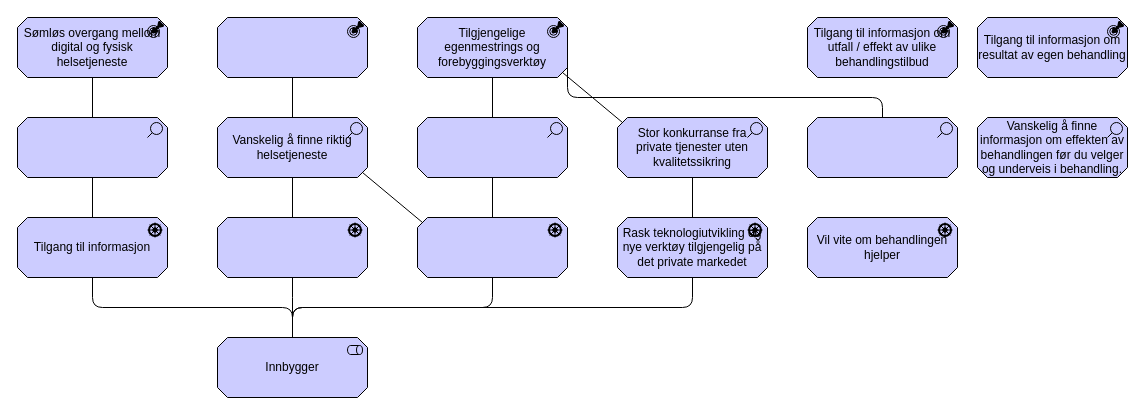
The diagram is 1145 pixels wide and 415 high, and some of its shapes have lost their labels. Each missing label, with the centre of its shape:
"Dårlig støtte til egenmestring" goes at (492,147).
"Helsetjenesten oppleves som lite sammenhengende/ fragmenterte" goes at (882,147).
"Informasjon følger ikke pasienten" goes at (92,147).
"Persontilpasning" goes at (492,247).
"Tilgang til helsetjenester" goes at (292,247).
"én trygg og tilgjengelig digital inngang til helsetjenesten" goes at (292,47).
